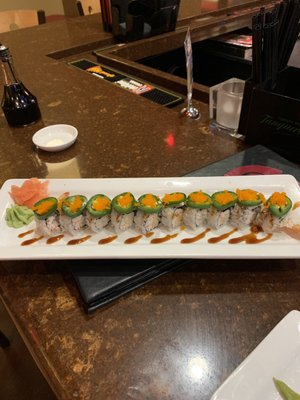sushi: (32, 124, 78, 153)
